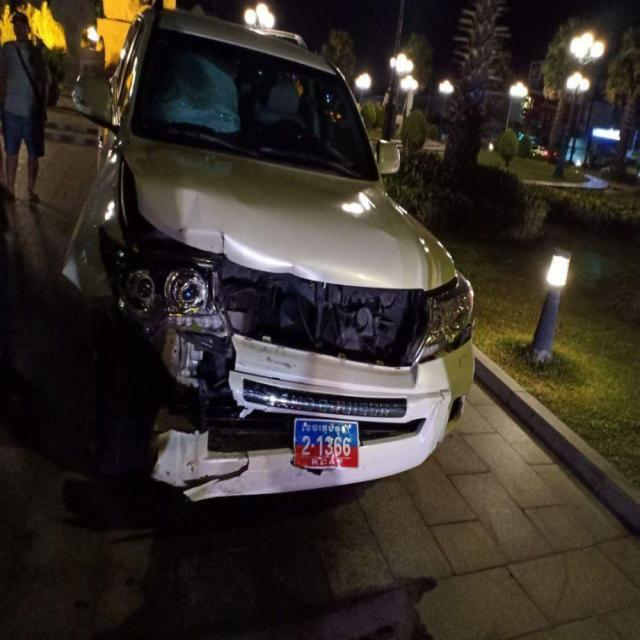RCAF: (302, 423, 341, 436)
